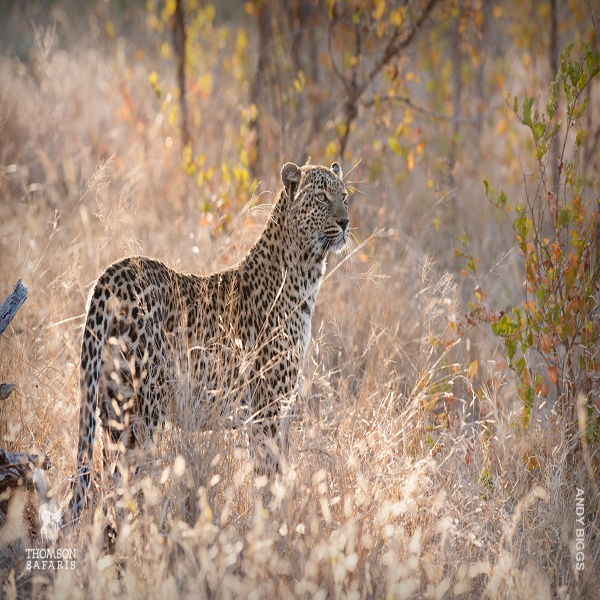Leopard: (68, 158, 361, 540)
